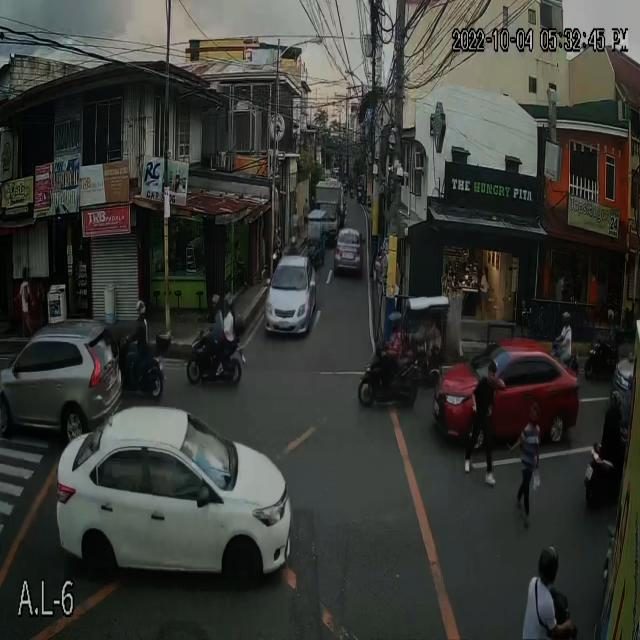Full-Faced: (537, 547, 558, 578), (382, 309, 403, 330), (609, 387, 624, 411), (601, 309, 615, 328), (219, 294, 233, 312), (134, 300, 146, 318), (209, 293, 221, 311), (561, 306, 570, 328)
